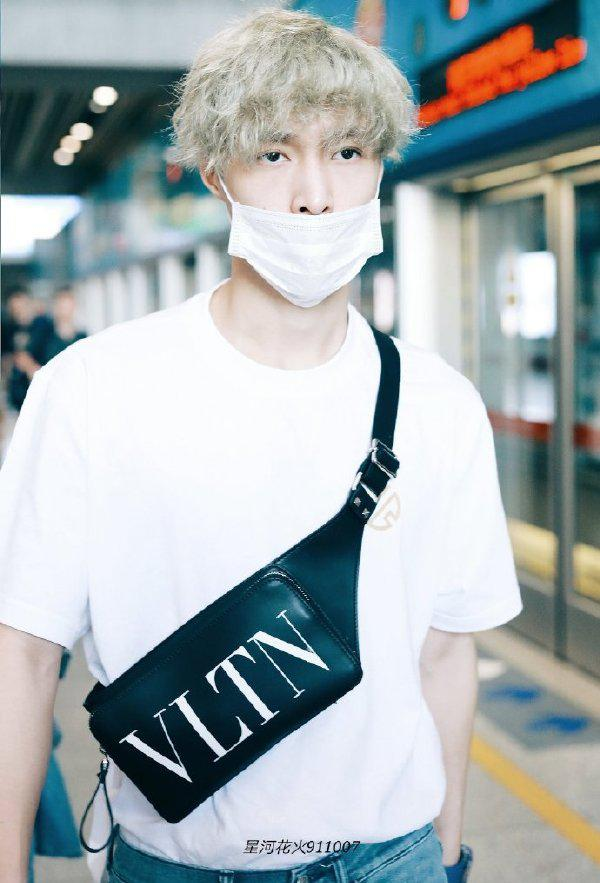WRONG: (232, 117, 381, 305)
